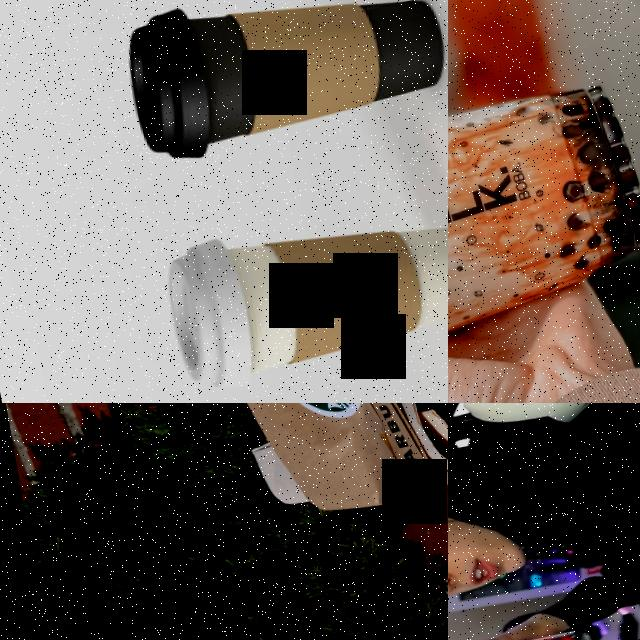can: (448, 622, 593, 640)
cup: (448, 69, 640, 403), (154, 194, 448, 400), (115, 0, 448, 167)
